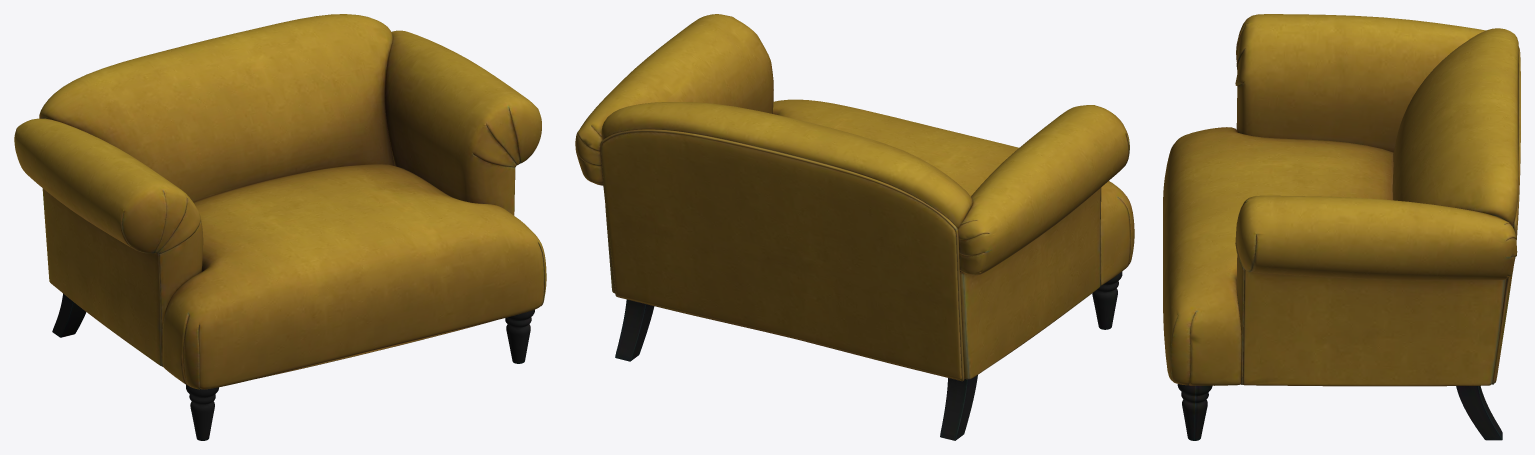
Rendered from claudia_loveseat_antique_gold_velvet.glb.
3 renders of one model, left to right at view 1: azimuth 30°, elevation 25°; view 2: azimuth 150°, elevation 25°; view 3: azimuth 270°, elevation 25°, orthographic. The views are drawn at different scales.
Parts seen in each view (by area): view 1: VELVET, LEGS; view 2: VELVET, LEGS; view 3: VELVET, LEGS.
Part boxes in pixels (left/top/right/bottom): VELVET: left=14, top=14, right=546, bottom=389; LEGS: left=52, top=293, right=534, bottom=440; VELVET: left=575, top=14, right=1134, bottom=381; LEGS: left=615, top=271, right=1122, bottom=440; VELVET: left=1163, top=14, right=1520, bottom=386; LEGS: left=1177, top=384, right=1502, bottom=440.
Size of what is drawn, in the model's own units: 66.34 by 38.48 by 46.6.
2 materials, 2 textured.
